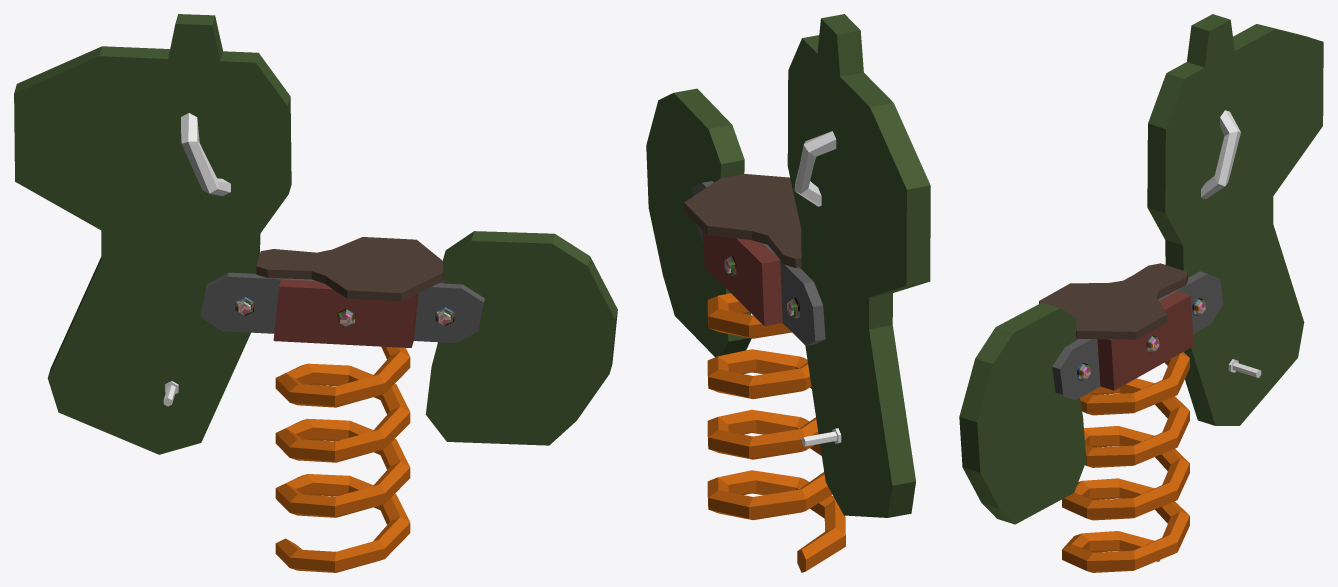
Rendered from Springer Green.fbx.
3 views of the same model, side by side, from view 1: azimuth 30°, elevation 25°; view 2: azimuth 150°, elevation 25°; view 3: azimuth 270°, elevation 25° (orthographic). The views are drawn at different scales.
Visible parts, largest first — view 1: Springer Green; view 2: Springer Green; view 3: Springer Green.
Part boxes in pixels (<box>): Springer Green: <box>14,14,617,572</box>; Springer Green: <box>646,14,930,572</box>; Springer Green: <box>959,14,1323,572</box>.
Size of the model in its own units: 158 by 121 by 187.
